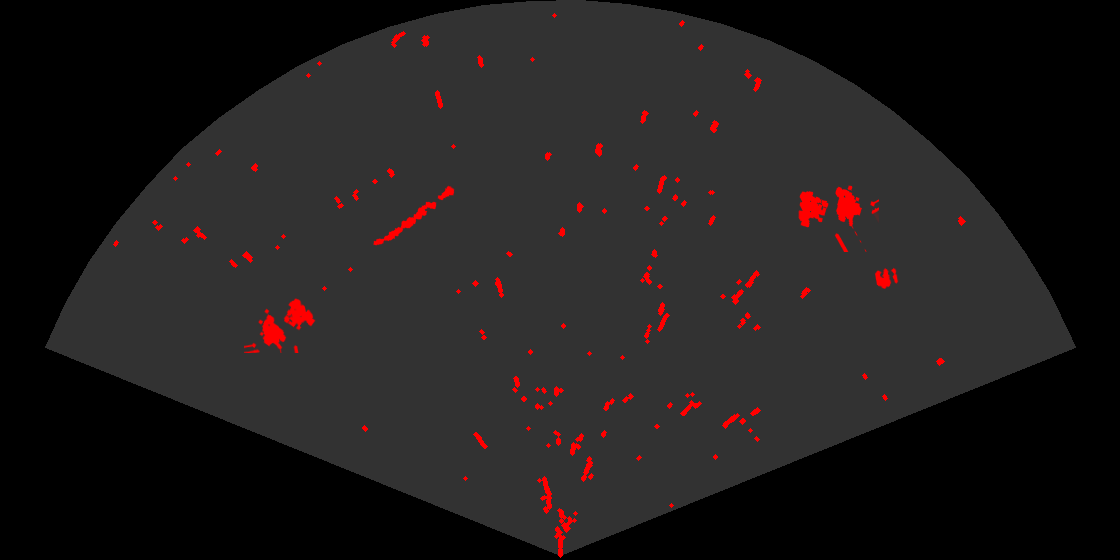ball: (873, 266, 900, 290)
cage: (797, 184, 879, 252), (244, 297, 317, 353)
chain: (372, 184, 456, 247)
